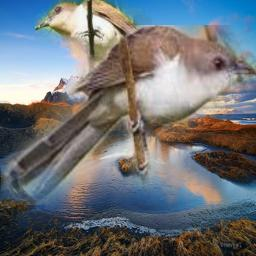Cuckoo: (1, 25, 256, 205), (35, 0, 188, 133)
